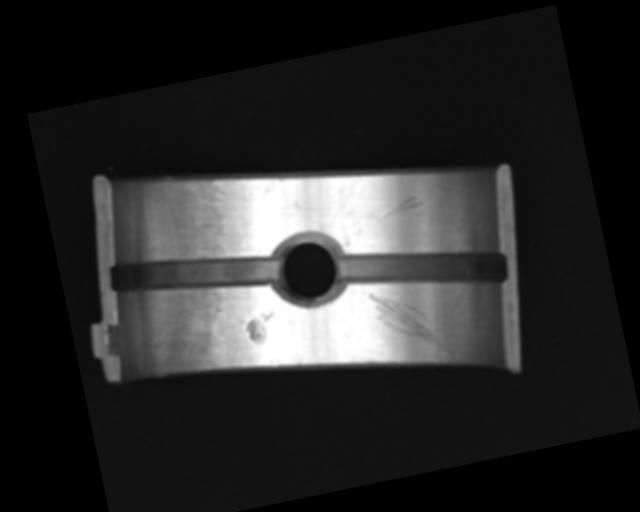bruise: (242, 310, 279, 346)
gap: (336, 225, 509, 312), (108, 232, 280, 310)
hole: (266, 226, 350, 314)
nick: (368, 279, 448, 369), (369, 192, 425, 223)
